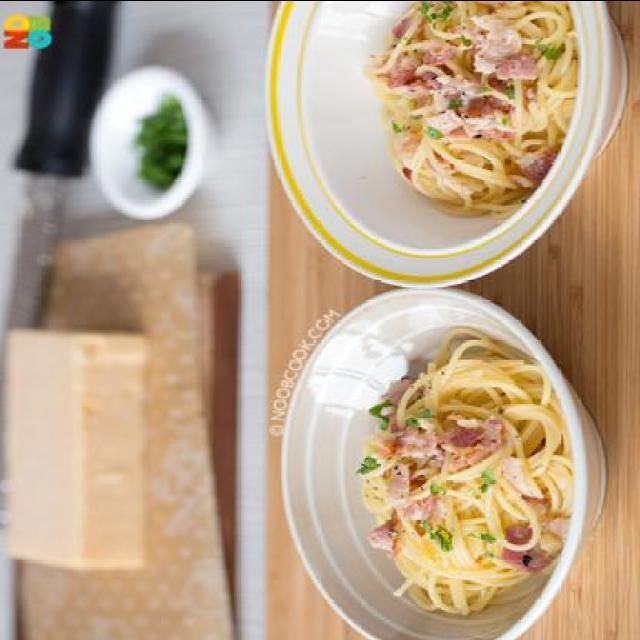Pasta with carbonara sauce: (342, 302, 584, 624), (308, 1, 600, 222)
